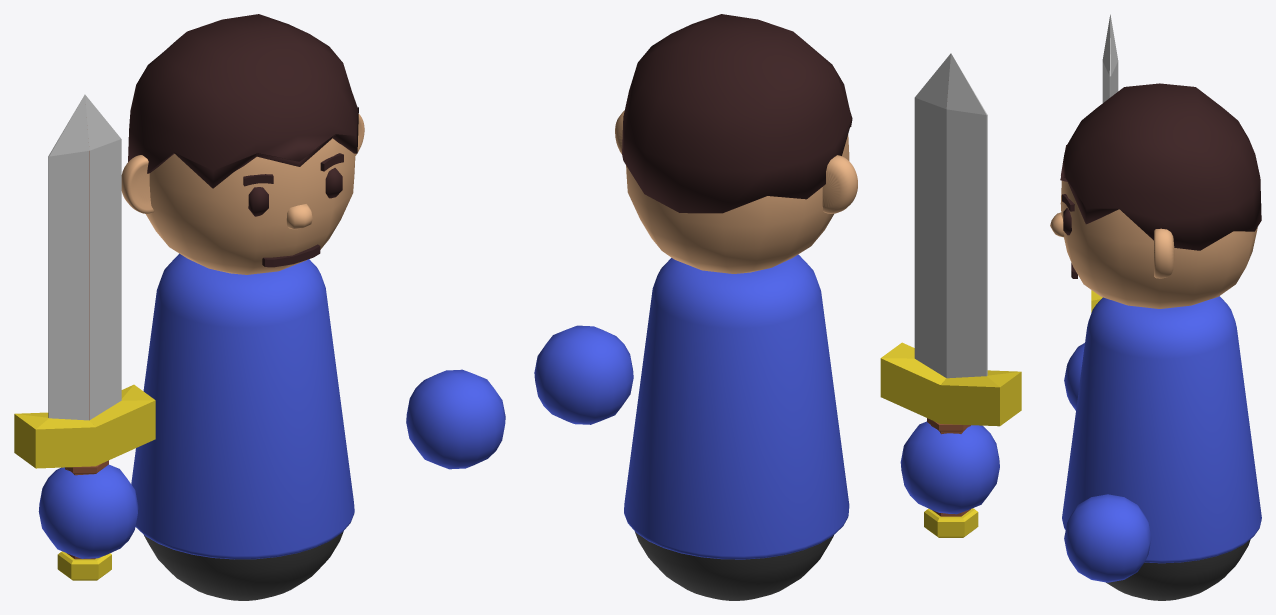
Rendered from mii-sword.glb.
3 views of the same model, side by side, from view 1: azimuth 30°, elevation 25°; view 2: azimuth 150°, elevation 25°; view 3: azimuth 270°, elevation 25° (orthographic). The views are drawn at different scales.
Parts seen in each view (by area): view 1: 円; view 2: 円; view 3: 円.
Boxes of the visible parts, x1,y1,x2,y2 form: 円: [14, 14, 505, 600]; 円: [534, 14, 1021, 600]; 円: [1050, 14, 1261, 600].
Size of the model in its own units: 1.59 by 1.81 by 0.6984.
